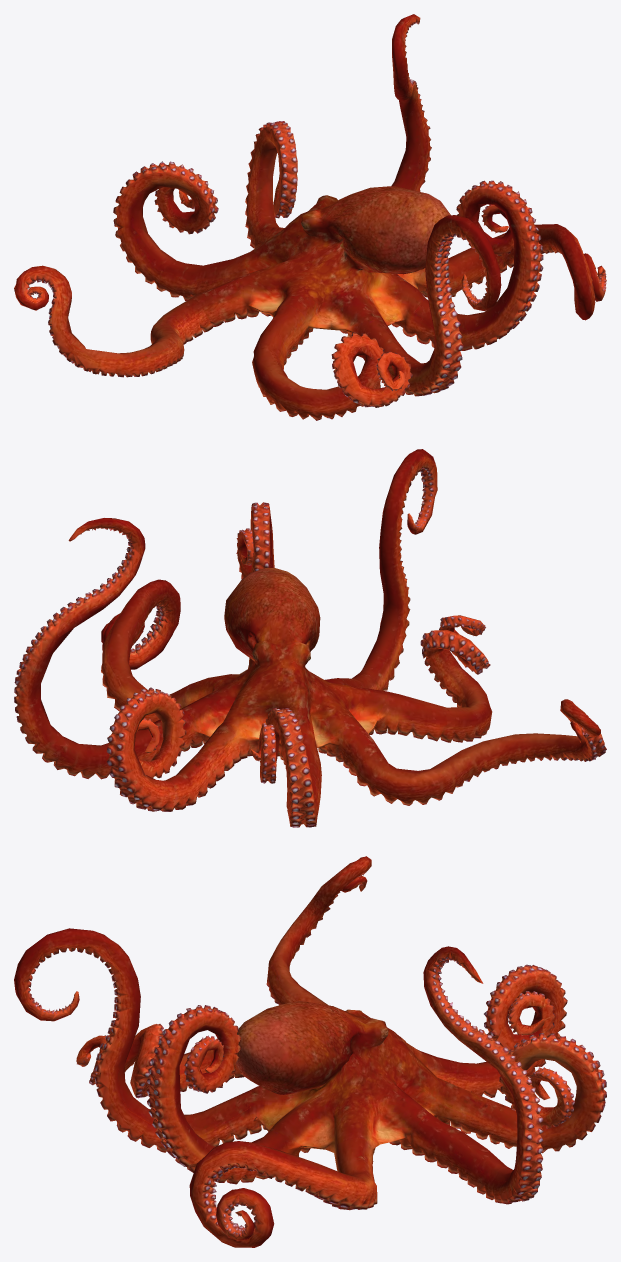
File: octopus.glb
3 renders of one model, top to bottom at view 1: azimuth 30°, elevation 25°; view 2: azimuth 150°, elevation 25°; view 3: azimuth 270°, elevation 25°, orthographic. The views are drawn at different scales.
Visible parts, largest first — view 1: Octopus; view 2: Octopus; view 3: Octopus.
Boxes of the visible parts, x1,y1,x2,y2 form: Octopus: [14, 14, 606, 420]; Octopus: [14, 449, 606, 827]; Octopus: [14, 856, 606, 1247].
Size of the model in its own units: 0.9992 by 0.4376 by 0.8923.
Materials: 1 (1 with a texture image).
